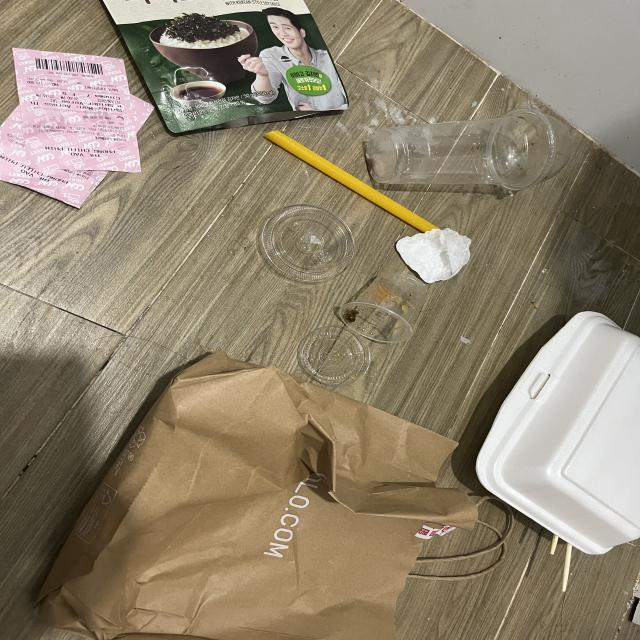bag: (33, 348, 514, 640)
drinking straw: (264, 130, 442, 231)
foam box: (475, 310, 640, 554)
lid: (258, 205, 356, 285), (297, 325, 370, 386)
napkin: (396, 228, 471, 284)
paper: (0, 48, 155, 210)
plastic glass: (367, 106, 571, 188)
plastic holder: (339, 272, 429, 343)
snack package: (100, 0, 350, 136)
